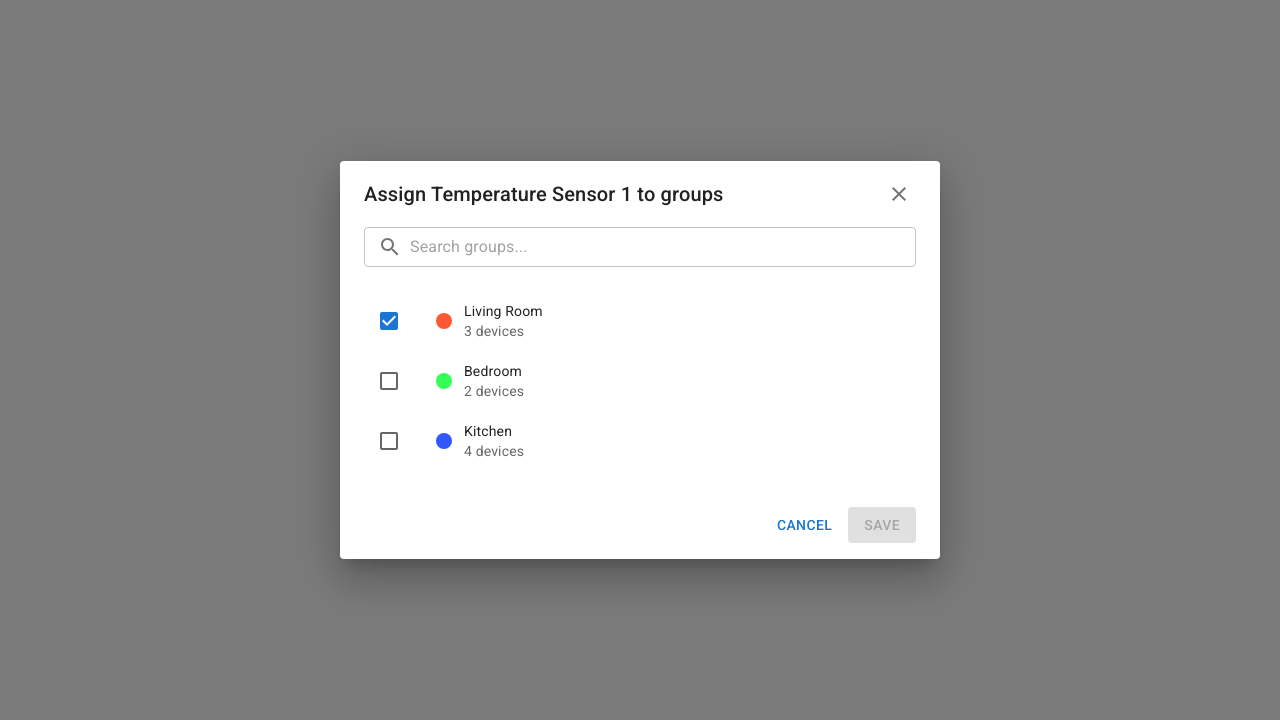
Scenario: DeviceGroupAssignment Component › Dialog Controls › should enable save button when changes are made
Click the 2nd checkbox: (389, 381) 377,369 -> 401,393
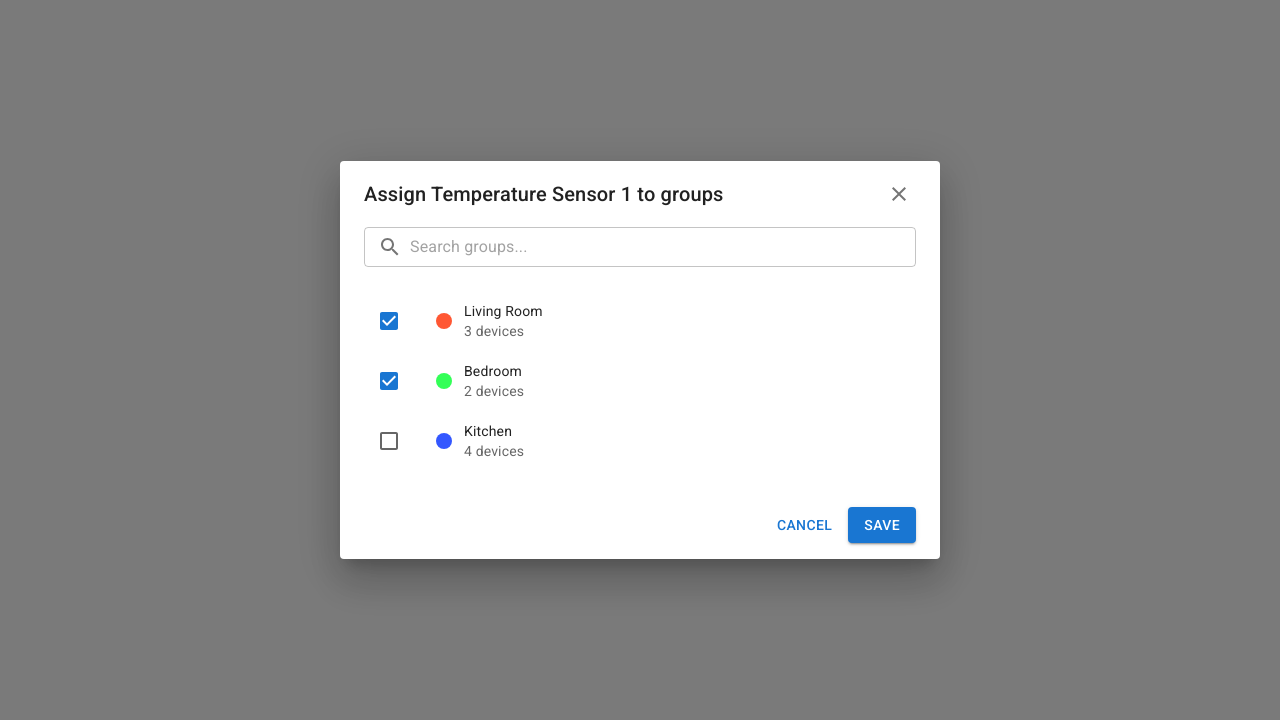
Check: the button "Save" is enabled, box 848,507 -> 916,543
